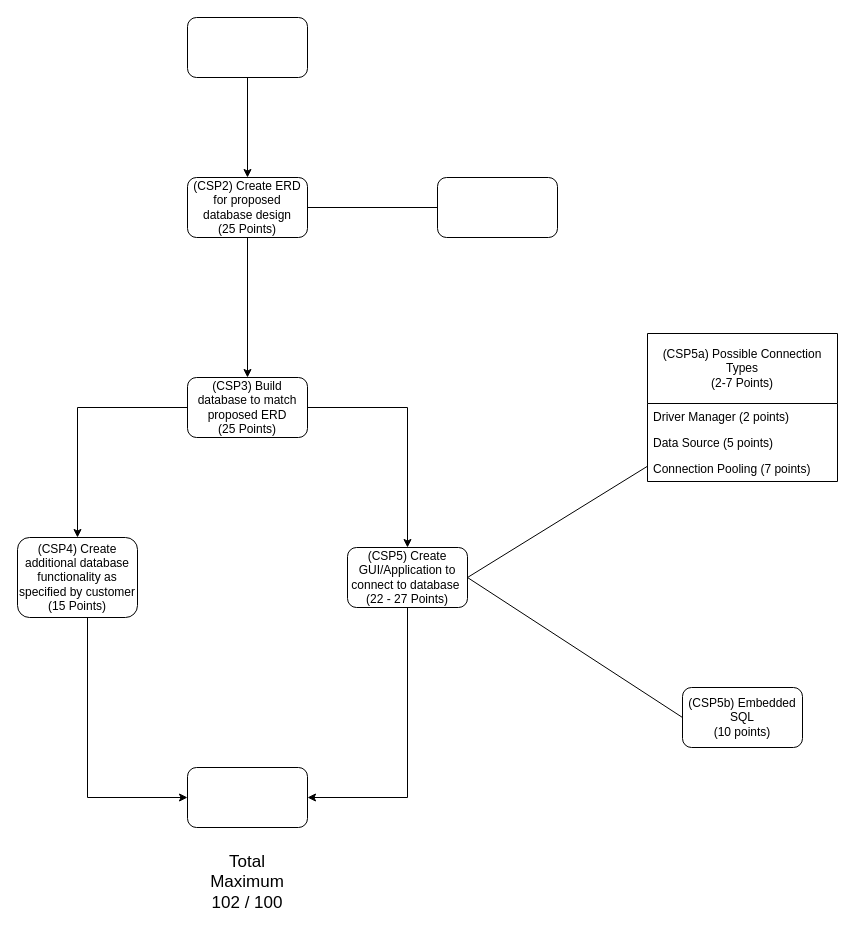
Some shapes in this 855 by 930 pixel diagram are drawn without their labels. The shapes that lost their labels are listed below. From the top down, each one's centre as x and y in pixels, then its label:
the point at 247,47: (CSP1) Normalize given data (10 Points)
the point at 497,207: (PLP) Submit Programming Language Proposal (Optional)
the point at 247,797: (CSP6) Incorporate all design components into one package
